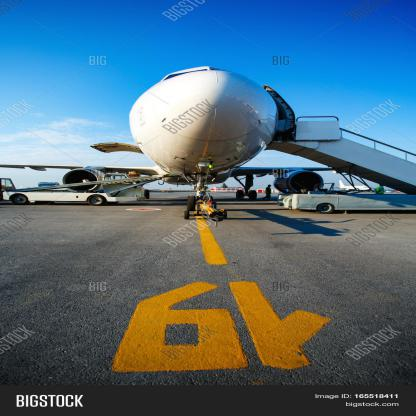baggagetruck: (0, 172, 165, 210)
